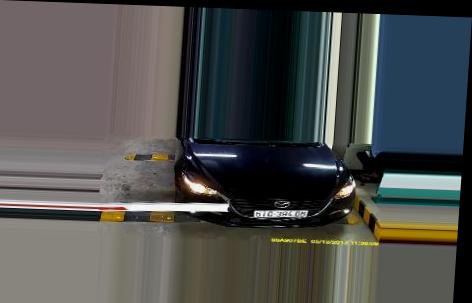License_Plate: (250, 204, 308, 222)
